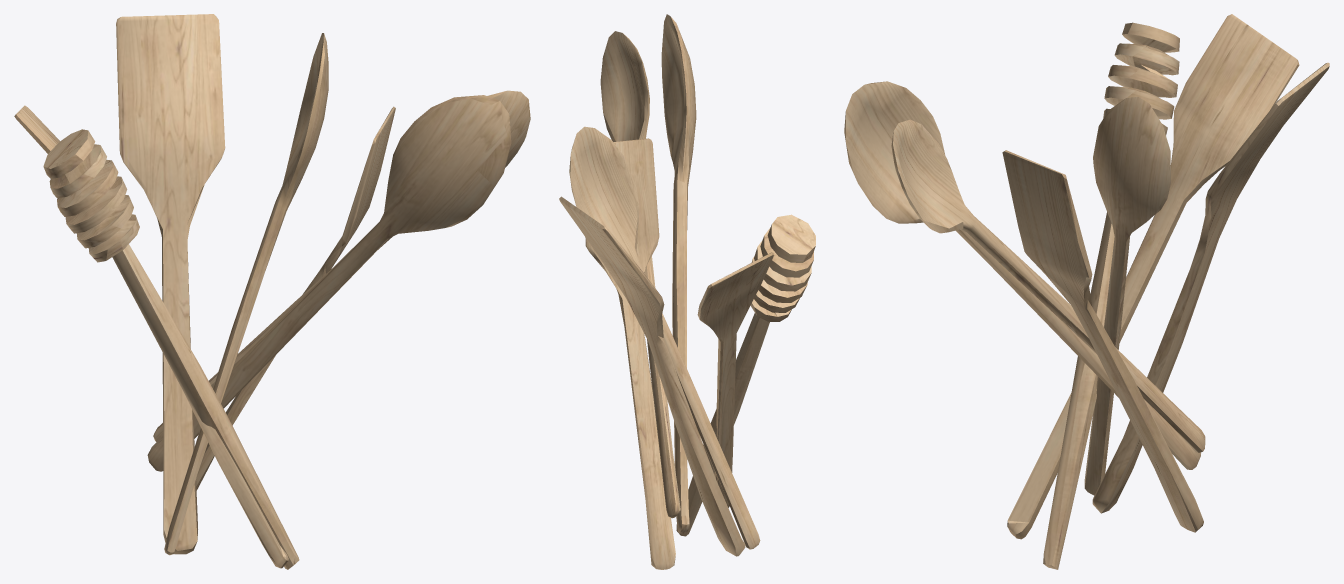
Rendered from SM_Spoon_1.fbx.
3 views of the same model, side by side, from view 1: azimuth 30°, elevation 25°; view 2: azimuth 150°, elevation 25°; view 3: azimuth 270°, elevation 25° (orthographic). The views are drawn at different scales.
Parts seen in each view (by area): view 1: GDLM1243_GDLM1020_mLayer135_20.004, GDLM1243_GDLM1020_mLayer135_20.005, GDLM1243_GDLM1020_mLayer135_20.006, GDLM1243_GDLM1020_mLayer135_20.001, GDLM1243_GDLM1020_mLayer135_20, GDLM1243_GDLM1020_mLayer135_20.003, GDLM1243_GDLM1020_mLayer135_20.002; view 2: GDLM1243_GDLM1020_mLayer135_20.001, GDLM1243_GDLM1020_mLayer135_20, GDLM1243_GDLM1020_mLayer135_20.004, GDLM1243_GDLM1020_mLayer135_20.005, GDLM1243_GDLM1020_mLayer135_20.006, GDLM1243_GDLM1020_mLayer135_20.002, GDLM1243_GDLM1020_mLayer135_20.003; view 3: GDLM1243_GDLM1020_mLayer135_20.003, GDLM1243_GDLM1020_mLayer135_20, GDLM1243_GDLM1020_mLayer135_20.001, GDLM1243_GDLM1020_mLayer135_20.006, GDLM1243_GDLM1020_mLayer135_20.005, GDLM1243_GDLM1020_mLayer135_20.002, GDLM1243_GDLM1020_mLayer135_20.004.
Boxes of the visible parts, left/top/right/bottom form: GDLM1243_GDLM1020_mLayer135_20.004: left=116, top=14, right=225, bottom=554; GDLM1243_GDLM1020_mLayer135_20.005: left=147, top=95, right=511, bottom=471; GDLM1243_GDLM1020_mLayer135_20.006: left=43, top=129, right=299, bottom=569; GDLM1243_GDLM1020_mLayer135_20.001: left=164, top=33, right=328, bottom=555; GDLM1243_GDLM1020_mLayer135_20: left=196, top=106, right=395, bottom=490; GDLM1243_GDLM1020_mLayer135_20.003: left=14, top=105, right=288, bottom=568; GDLM1243_GDLM1020_mLayer135_20.002: left=153, top=90, right=530, bottom=441; GDLM1243_GDLM1020_mLayer135_20.001: left=569, top=126, right=760, bottom=549; GDLM1243_GDLM1020_mLayer135_20: left=585, top=138, right=675, bottom=569; GDLM1243_GDLM1020_mLayer135_20.004: left=559, top=196, right=745, bottom=556; GDLM1243_GDLM1020_mLayer135_20.005: left=661, top=14, right=696, bottom=534; GDLM1243_GDLM1020_mLayer135_20.006: left=676, top=214, right=815, bottom=536; GDLM1243_GDLM1020_mLayer135_20.002: left=600, top=31, right=680, bottom=518; GDLM1243_GDLM1020_mLayer135_20.003: left=697, top=252, right=773, bottom=507; GDLM1243_GDLM1020_mLayer135_20.003: left=1007, top=14, right=1299, bottom=539; GDLM1243_GDLM1020_mLayer135_20: left=1002, top=150, right=1203, bottom=532; GDLM1243_GDLM1020_mLayer135_20.001: left=1084, top=97, right=1170, bottom=495; GDLM1243_GDLM1020_mLayer135_20.006: left=1043, top=22, right=1179, bottom=569; GDLM1243_GDLM1020_mLayer135_20.005: left=844, top=81, right=1201, bottom=469; GDLM1243_GDLM1020_mLayer135_20.002: left=891, top=119, right=1205, bottom=452; GDLM1243_GDLM1020_mLayer135_20.004: left=1092, top=62, right=1329, bottom=513.
Bounding box in the file's own units: 0.2445 × 0.3295 × 0.2687.
Materials: 1 (1 with a texture image).
